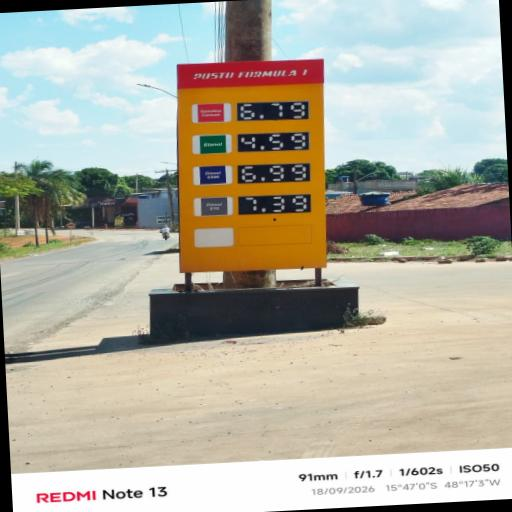ETANOL: (193, 132, 236, 156)
GASOLINA C: (190, 103, 232, 124)
S10: (199, 195, 231, 217)
S500: (195, 165, 231, 187)
placa: (176, 64, 324, 224)
preco: (233, 99, 311, 123), (238, 132, 310, 156), (239, 162, 308, 185), (240, 193, 310, 214)
